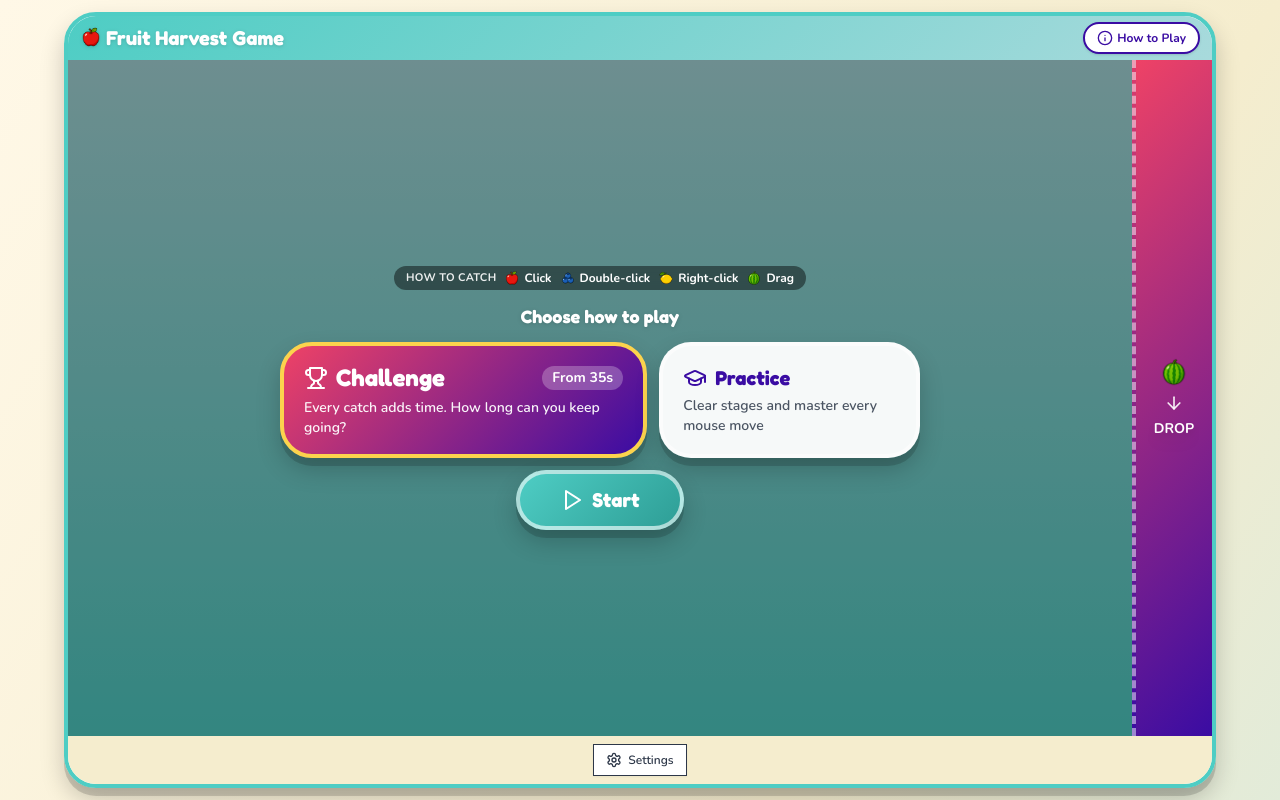
Test: FruitHarvestGame › game controls › resets game when reset button is clicked
Click the button "Start".
click(600, 500)  # box [516,470,684,530]
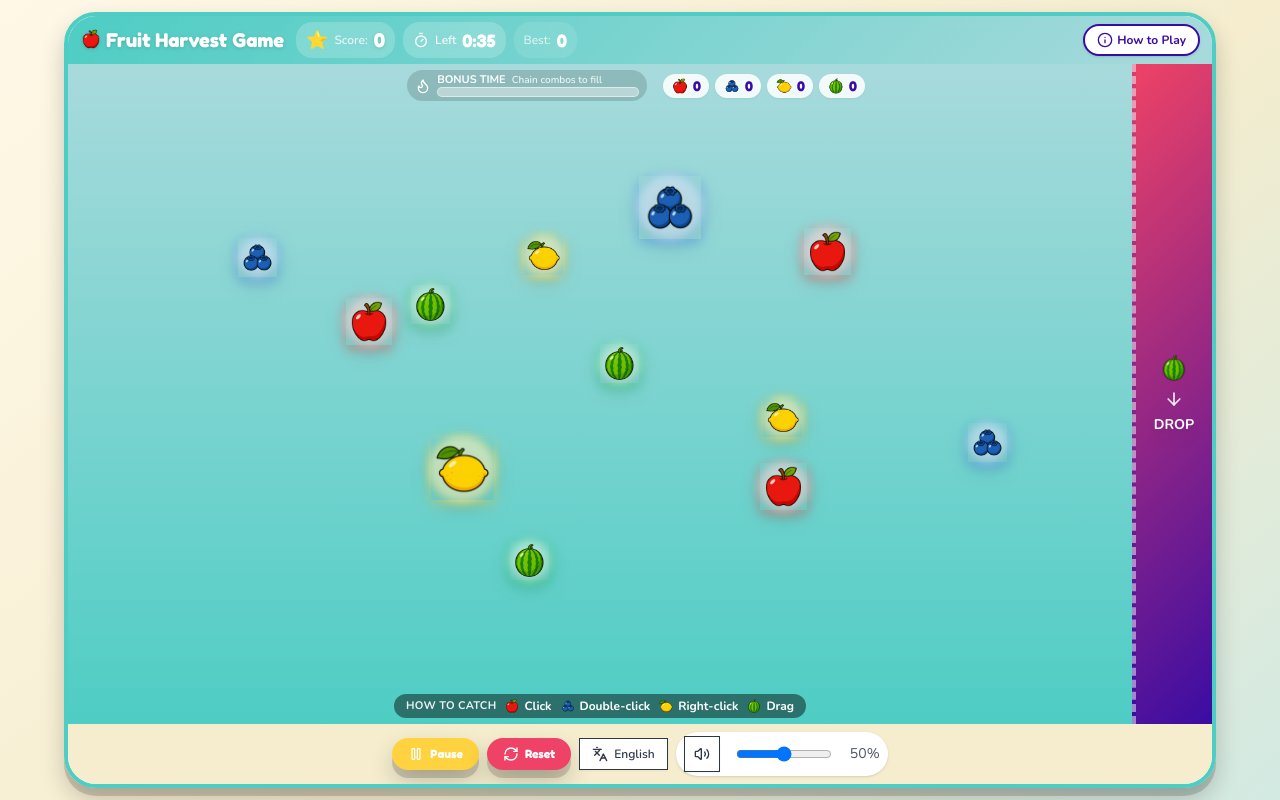
Click the button "Reset".
click(529, 754)  # box [487,738,571,770]
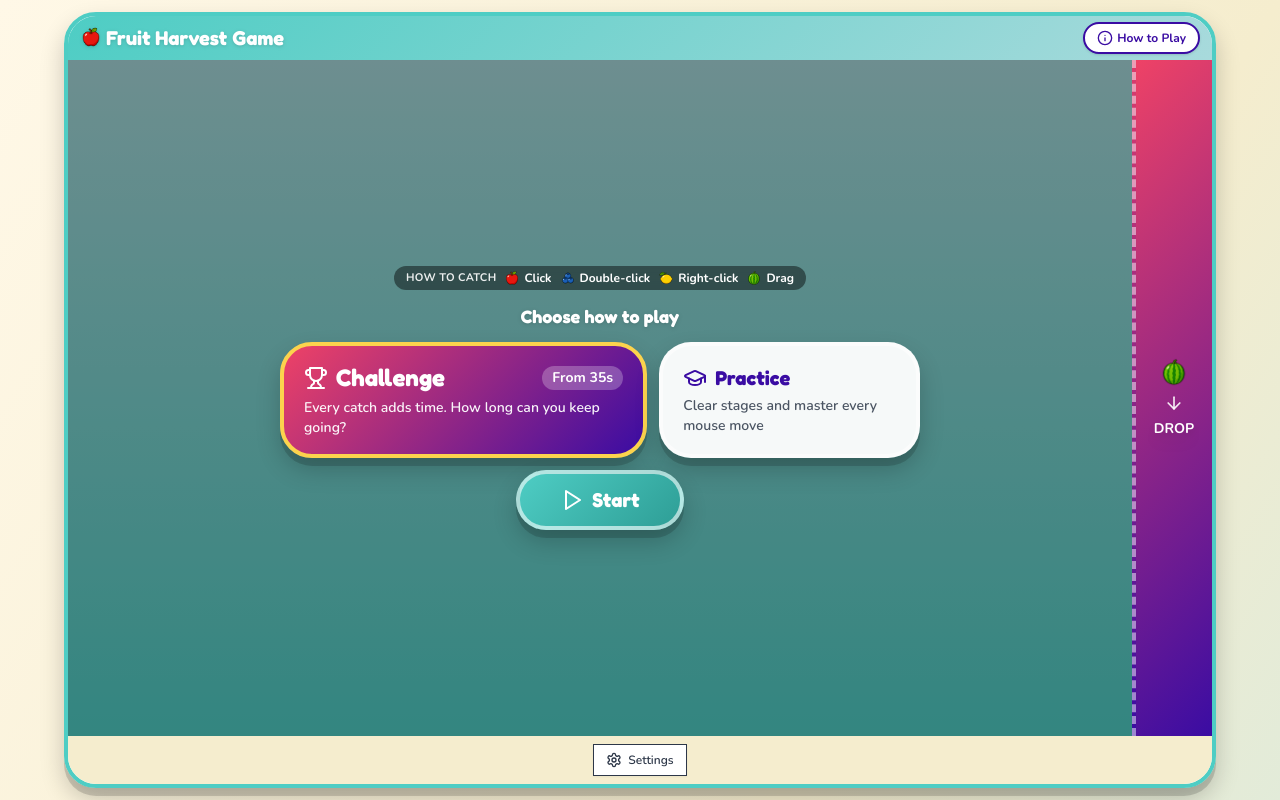
Expected: the button "Start" is shown, [516,470,684,530]
